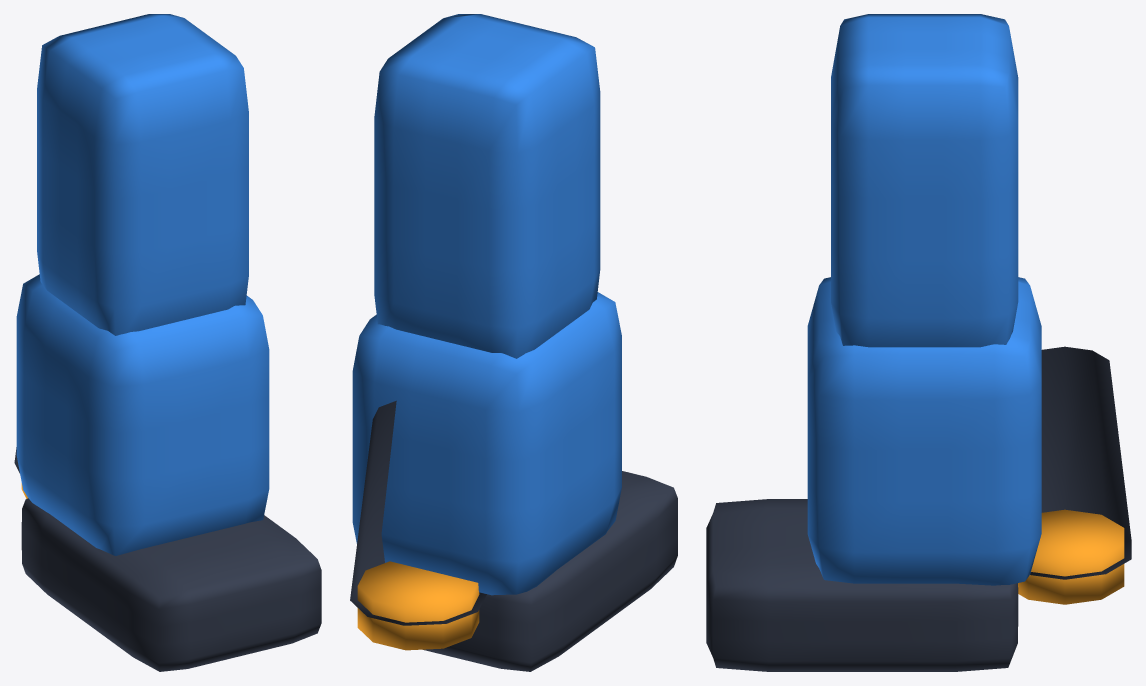
The model's file is leg_jetboot.obj.
The picture shows the model from 3 angles, left to right: view 1: azimuth 30°, elevation 25°; view 2: azimuth 150°, elevation 25°; view 3: azimuth 270°, elevation 25°; orthographic projection. The views are drawn at different scales.
Size of the model in its own units: 0.28 by 0.84 by 0.5456.
